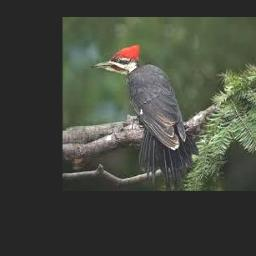Woodpecker: (93, 43, 198, 190)
